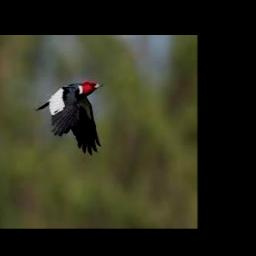Woodpecker: (34, 80, 103, 155)
